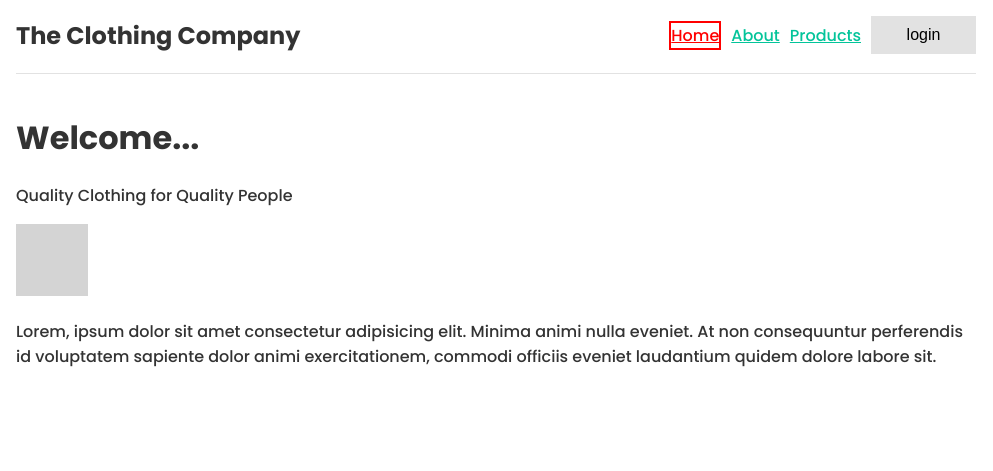
it: React Router Application E2E Tests › should navigate to About page and display nested routes
The image size is (993, 471).
// Navigate to About
Click the link with test id "About_Link" at point(756, 36), box left=731, top=23, right=780, bottom=48
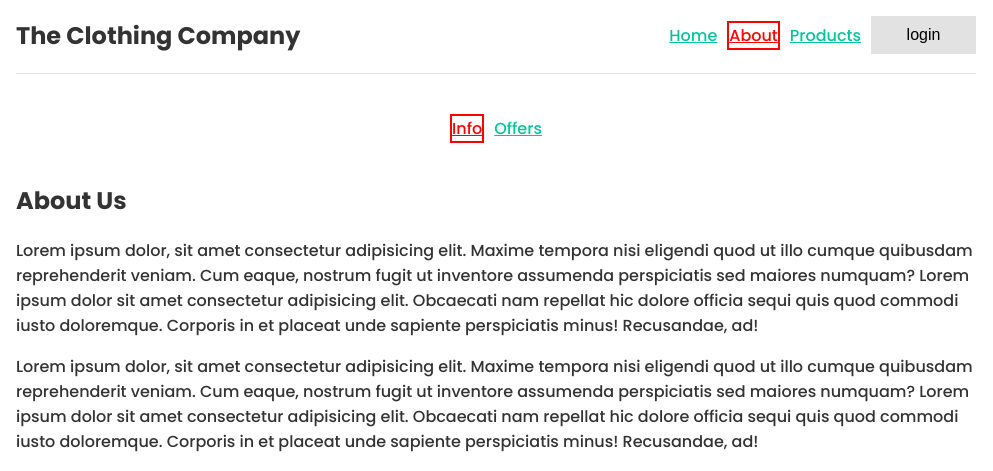
Expected: the element with test id "info" is shown, left=16, top=183, right=976, bottom=454
Expected: the heading "About Us" is shown, left=16, top=184, right=127, bottom=217
Expected: the navigation bar with test id "mini_switch" is shown, left=450, top=114, right=542, bottom=143
// Navigate to Offers
Click the link "Offers" at point(518, 129), box left=494, top=116, right=542, bottom=141
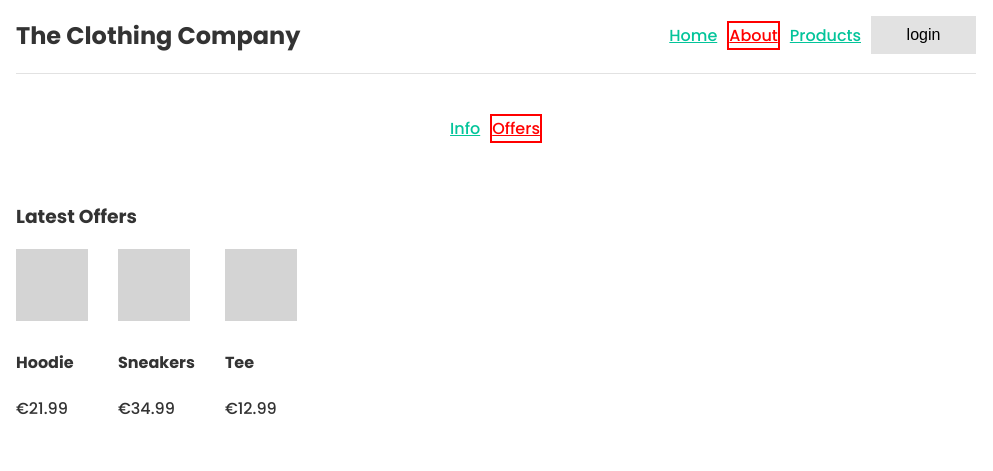
Expected: the element with test id "offers" is shown, left=16, top=203, right=297, bottom=420
Expected: the heading "Latest Offers" is shown, left=16, top=202, right=137, bottom=230
